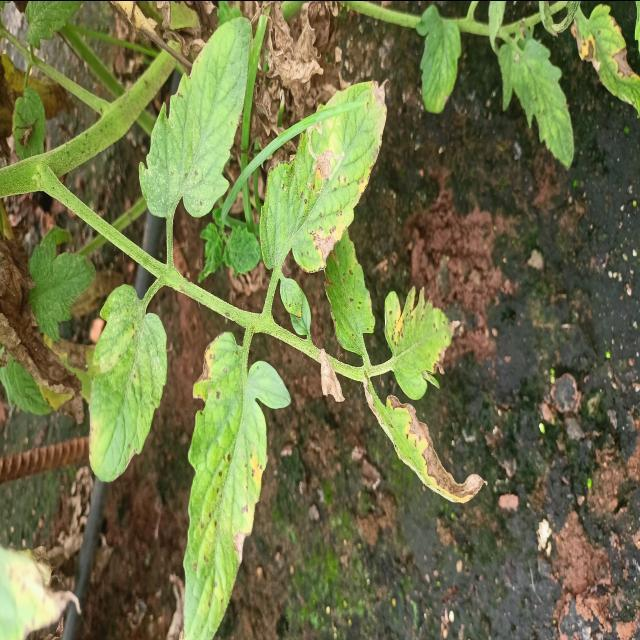Tomato mosaic virus leaf: (180, 328, 270, 640), (257, 76, 389, 274), (367, 395, 489, 507), (381, 282, 461, 400)
